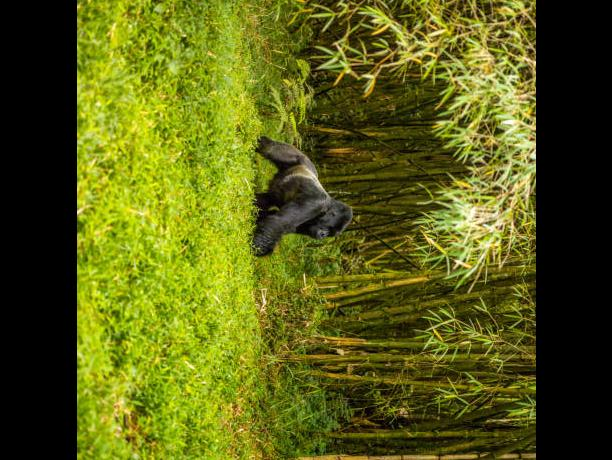goriile_montagne: (253, 129, 351, 279)
